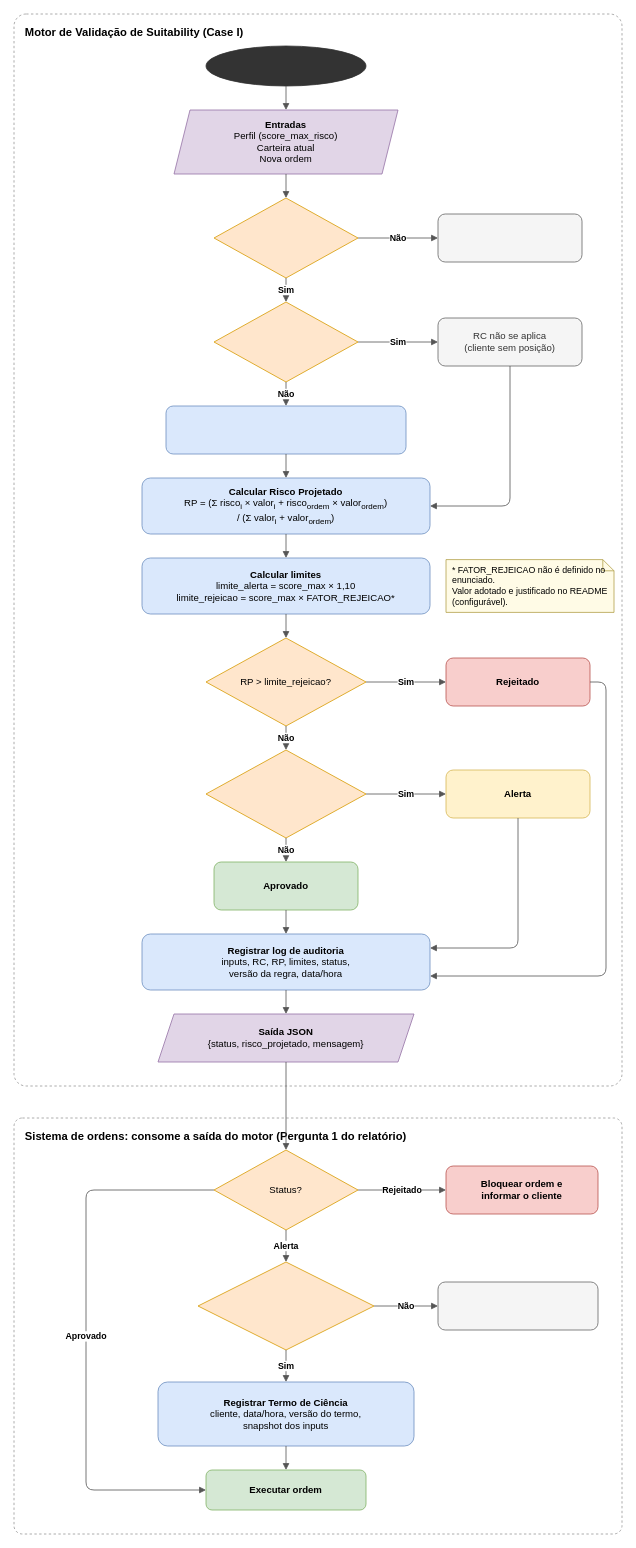
Some shapes in this 636 by 1548 pixel diagram are drawn without their labels. The shapes that lost their labels are listed below. From the top down, each one's centre as x and y in pixels, then its label:
At [285,65]: "Nova ordem de compra".
At [285,237]: "Entradas válidas?".
At [509,237]: "Retornar erro de validação (sem decisão de suitability)".
At [285,341]: "Carteira atual vazia?".
At [285,429]: "Calcular Risco Atual RC = Σ(risco i × valor i ) / Σ valor i".
At [285,793]: "RP > limite_alerta?".
At [285,1305]: "Cliente aceita o Termo de Ciência?".
At [517,1305]: "Ordem cancelada (recusa também é registrada)".
